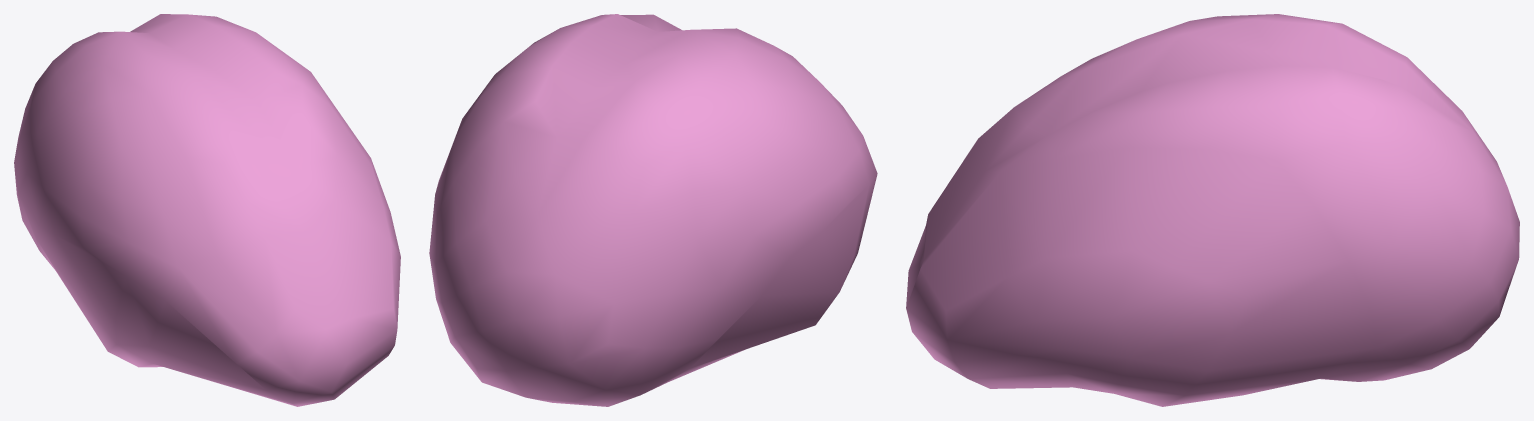
Rendered from Brain.fbx.
3 renders of one model, left to right at view 1: azimuth 30°, elevation 25°; view 2: azimuth 150°, elevation 25°; view 3: azimuth 270°, elevation 25°, orthographic. The views are drawn at different scales.
Parts seen in each view (by area): view 1: Brain; view 2: Brain; view 3: Brain.
Part boxes in pixels (x1,y1,x2,y2): Brain: (14, 14, 400, 406); Brain: (429, 14, 877, 406); Brain: (906, 14, 1519, 406).
Bounding box in the file's own units: 1.54 × 1.33 × 2.31.
